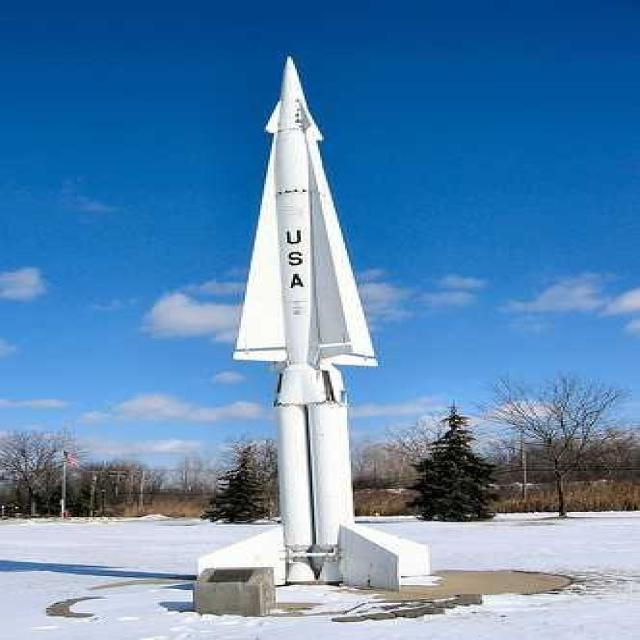missile: (232, 53, 382, 401)
